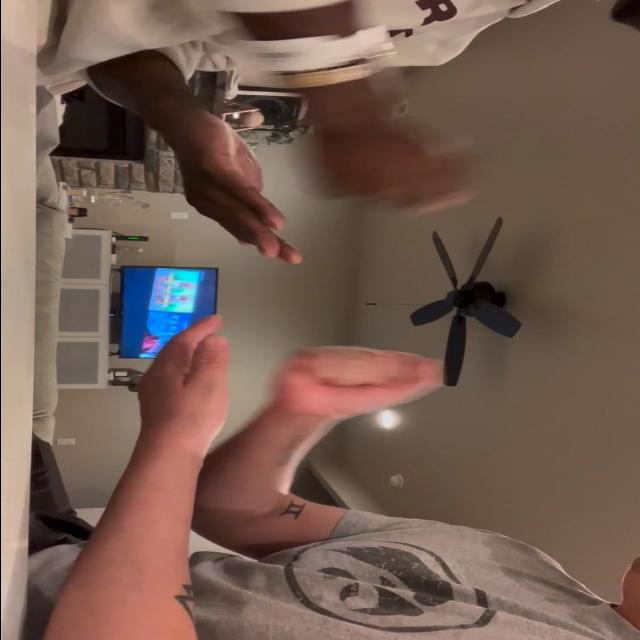Rock: (310, 128, 482, 214), (268, 343, 446, 421)
